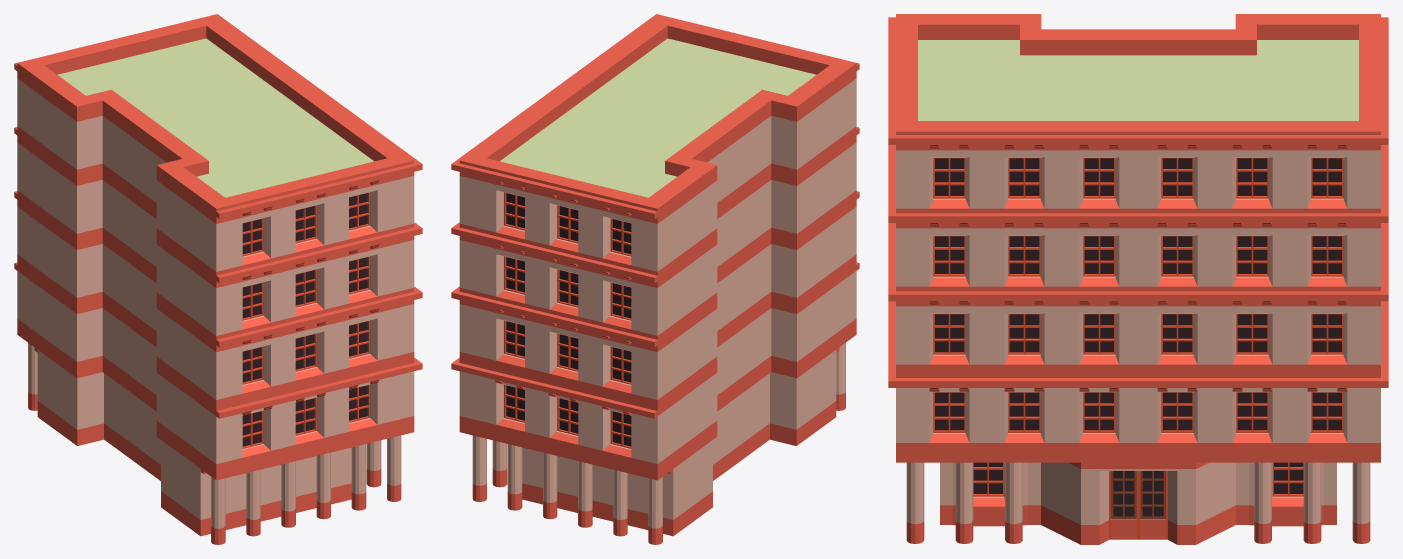
The model's file is poly-apartment.gltf.
3 views of the same model, side by side, from view 1: azimuth 30°, elevation 25°; view 2: azimuth 150°, elevation 25°; view 3: azimuth 270°, elevation 25° (orthographic). The views are drawn at different scales.
Visible parts, largest first — view 1: PublicBuilding_10; view 2: PublicBuilding_10; view 3: PublicBuilding_10.
Part boxes in pixels (left/top/right/bottom): PublicBuilding_10: left=14, top=14, right=422, bottom=544; PublicBuilding_10: left=451, top=14, right=859, bottom=544; PublicBuilding_10: left=888, top=14, right=1388, bottom=544.
Size of what is drawn, in the model's own units: 4.32 by 6.93 by 7.56.
Materials: 1 (1 with a texture image).
